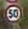limite 50: (3, 2, 22, 23)
